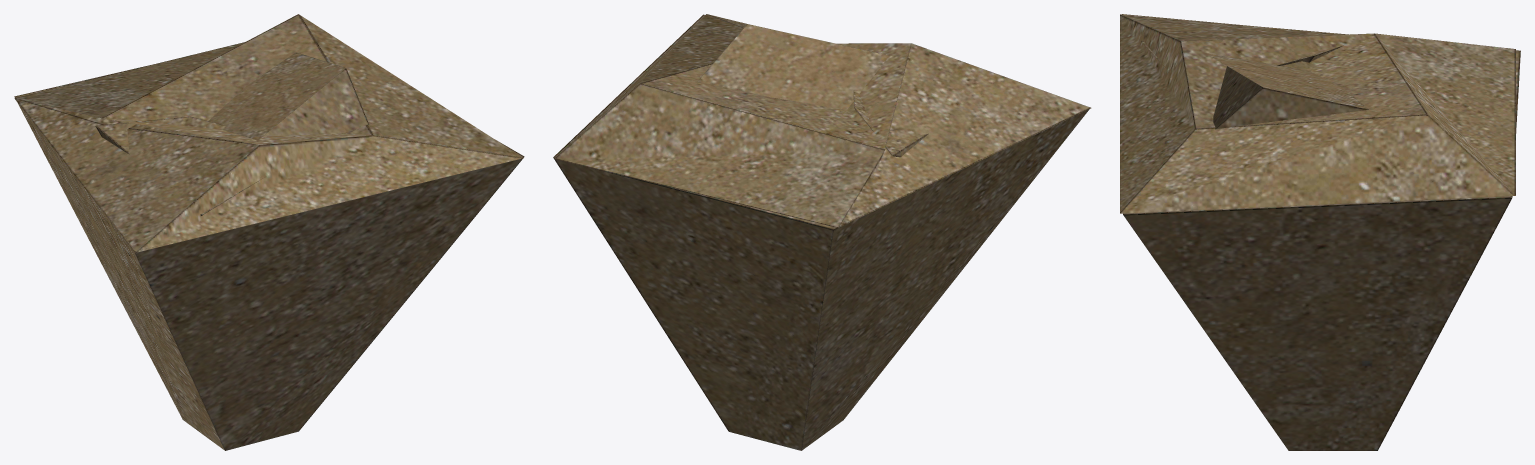
3 views of the same model, side by side, from view 1: azimuth 30°, elevation 25°; view 2: azimuth 150°, elevation 25°; view 3: azimuth 270°, elevation 25° (orthographic). The views are drawn at different scales.
Parts seen in each view (by area): view 1: Island1; view 2: Island1; view 3: Island1.
Part boxes in pixels (left/top/right/bottom): Island1: left=14, top=14, right=524, bottom=450; Island1: left=553, top=14, right=1091, bottom=450; Island1: left=1120, top=14, right=1520, bottom=450.
Size of what is drawn, in the model's own units: 1064 by 948 by 899.
1 material, 1 textured.
